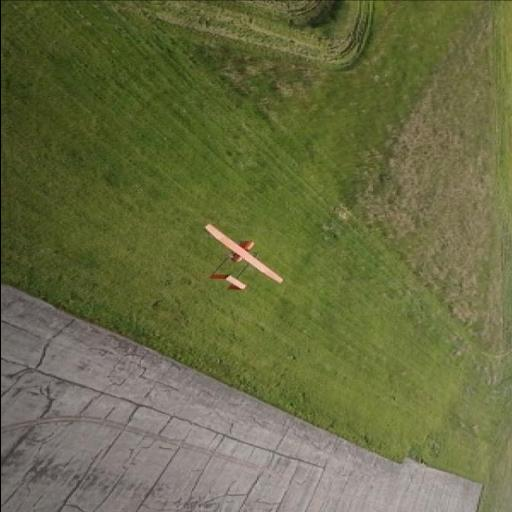uav: (184, 222, 288, 292)
